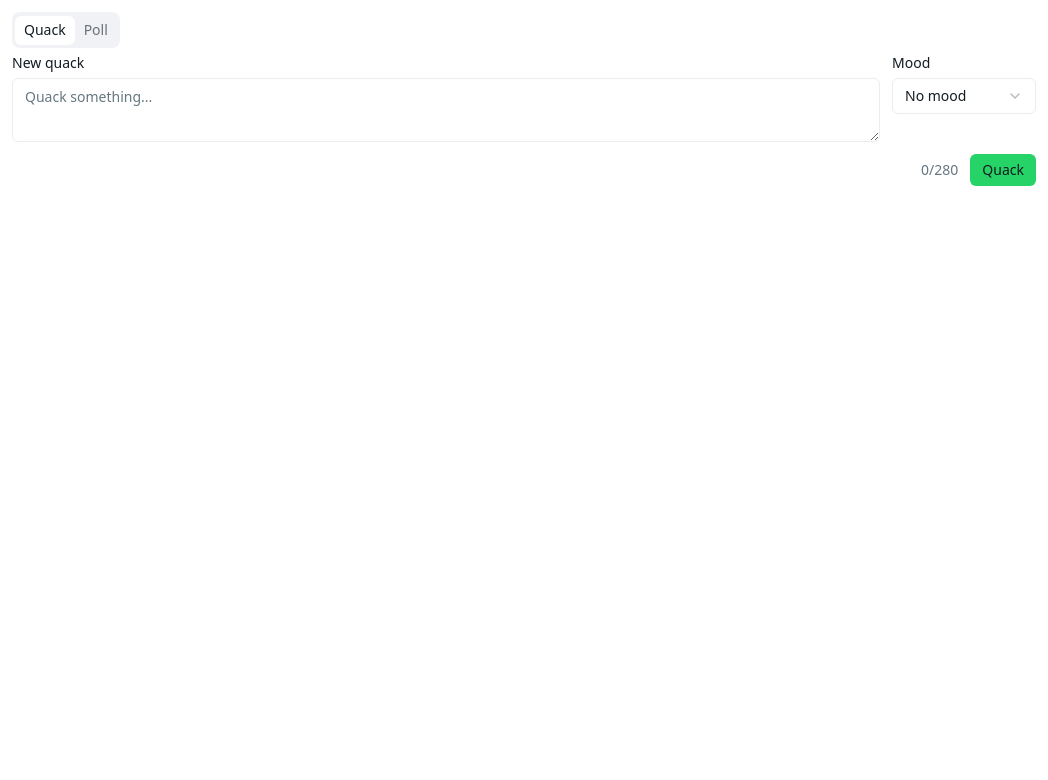
Test: QuackForm › poll › allows 2 to 4 answers
Click the tab "Poll": (96, 30) [75, 16, 117, 44]
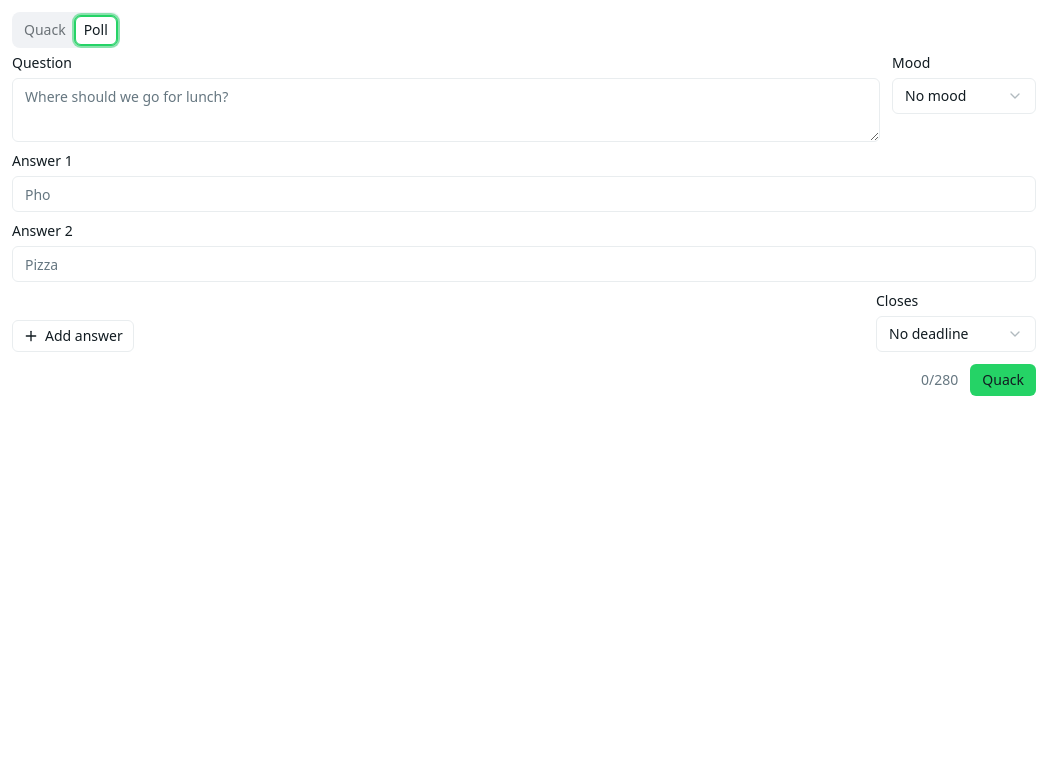
Click the button "Add answer": (73, 336) [12, 320, 134, 352]
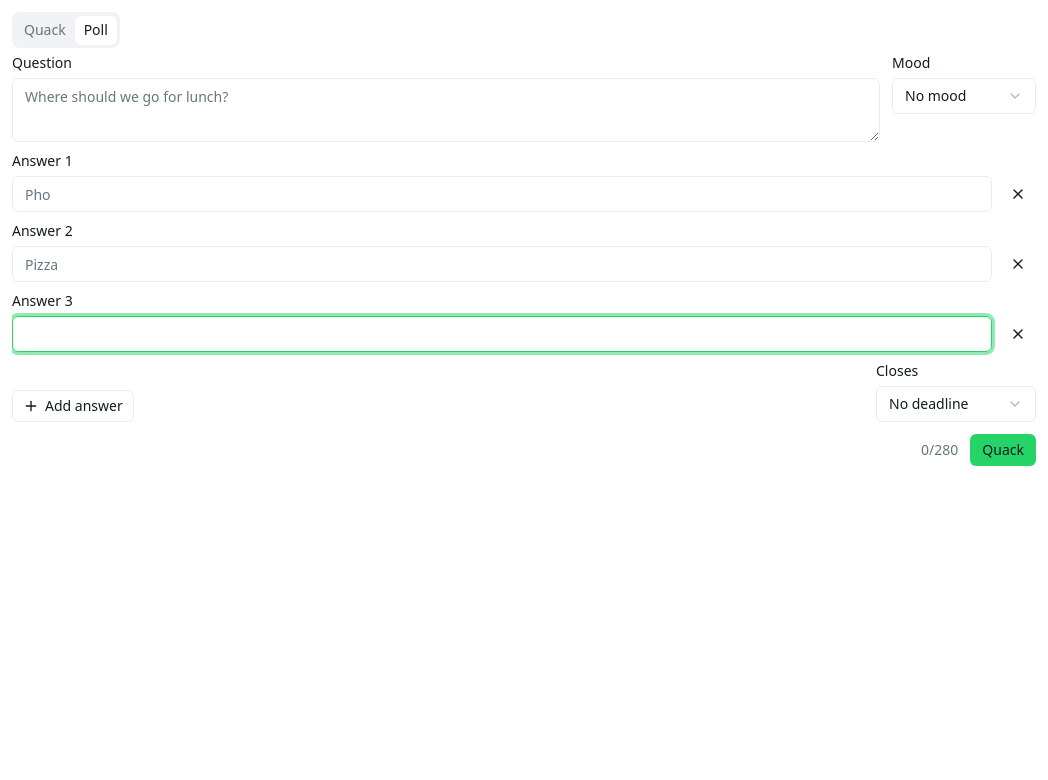
Click the button "Add answer": (73, 406) [12, 390, 134, 422]
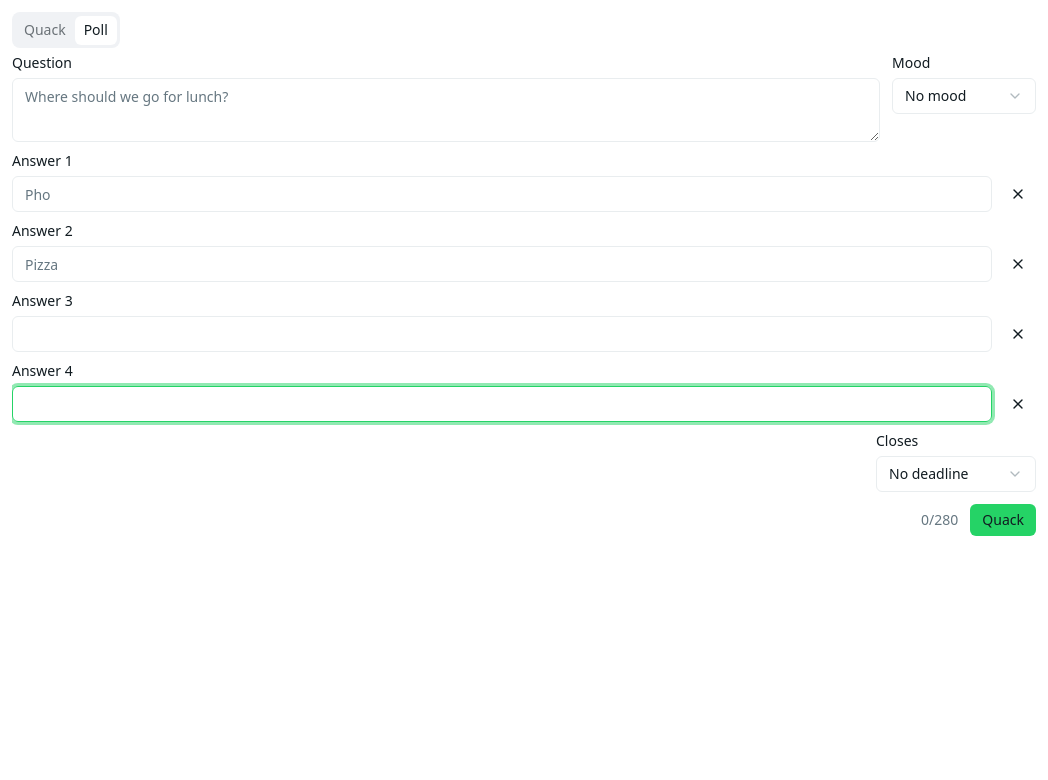
Check: the field labelled "Answer 4" is shown, box [12, 386, 992, 422]
Check: the button "Add answer" is gone
Click the button named "Remove answer 4": (1018, 404) [1000, 386, 1036, 422]
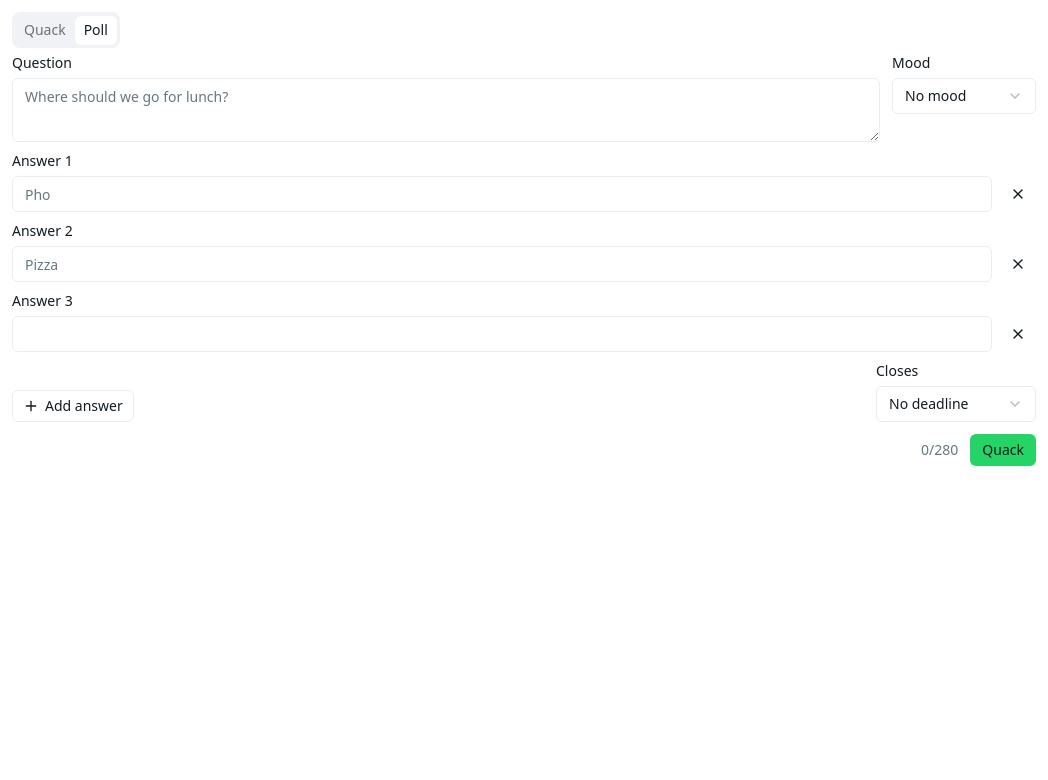
Click the button named "Remove answer 3": (1018, 334) [1000, 316, 1036, 352]
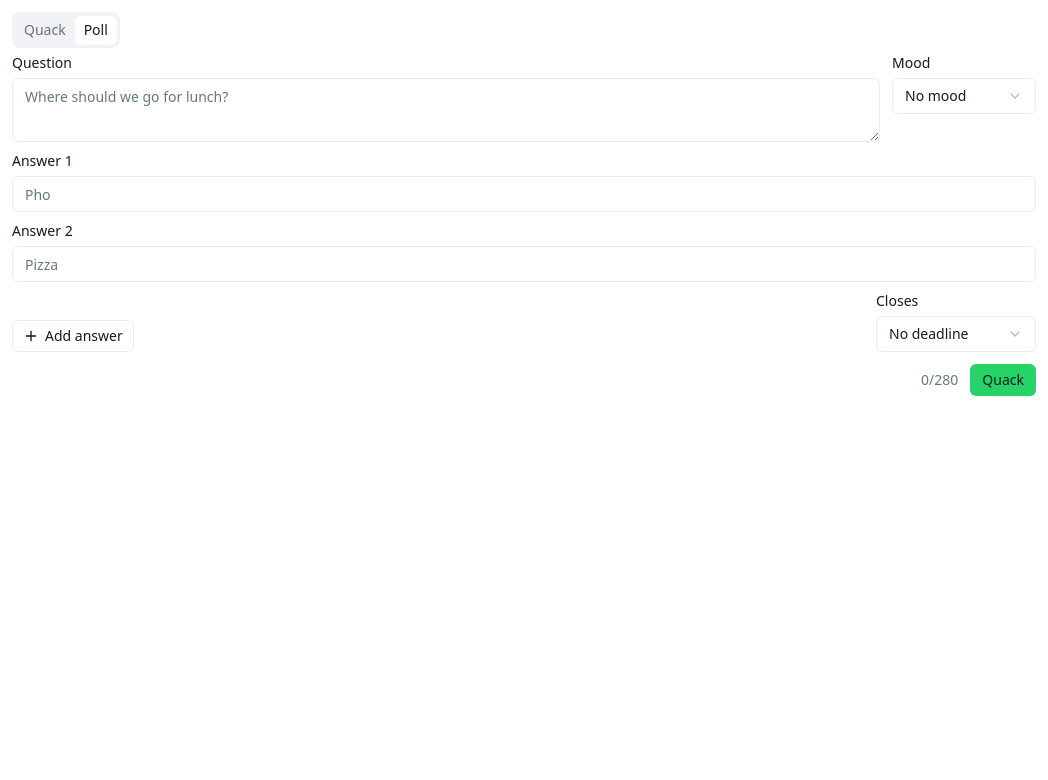
Check: the label labelled "Answer 3" is gone
